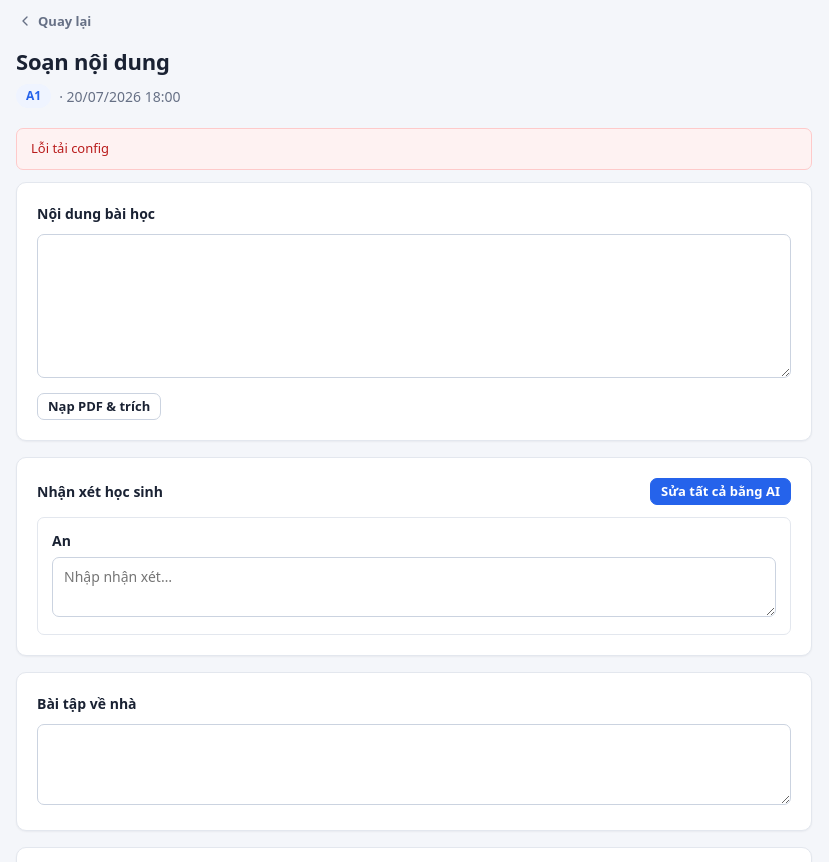
SessionComposer › hiển thị đồng thời lỗi config và lỗi thao tác
Click the button "Nạp PDF & trích". click: (99, 406)
box: x1=37 y1=392 x2=161 y2=420
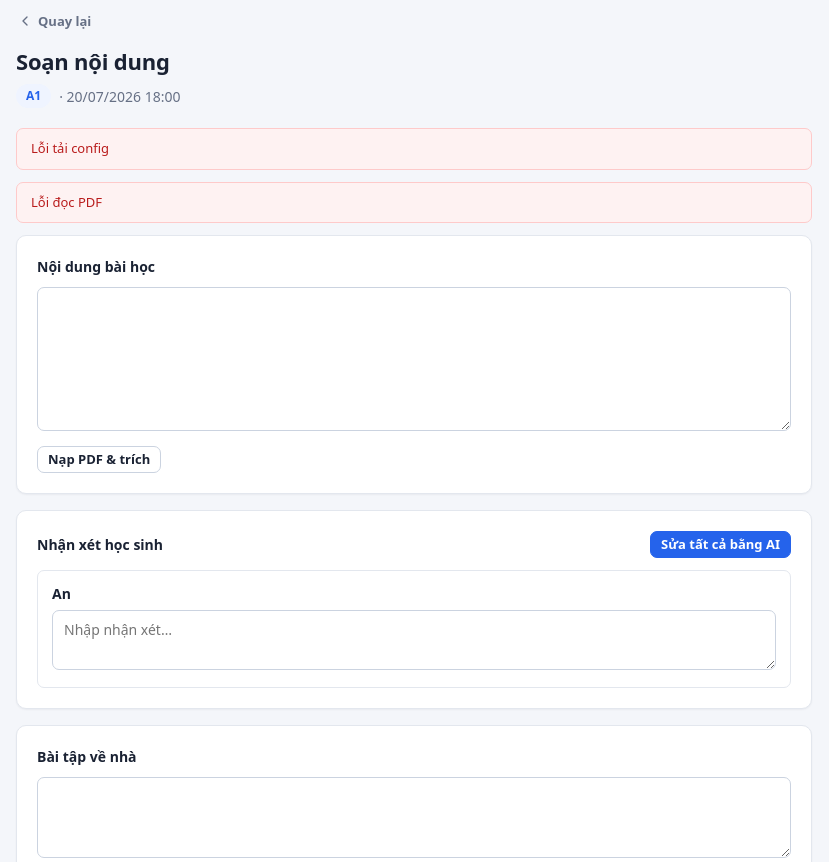
Check: the number of messages is 2, box x1=16 y1=128 x2=812 y2=170; x1=16 y1=182 x2=812 y2=223
